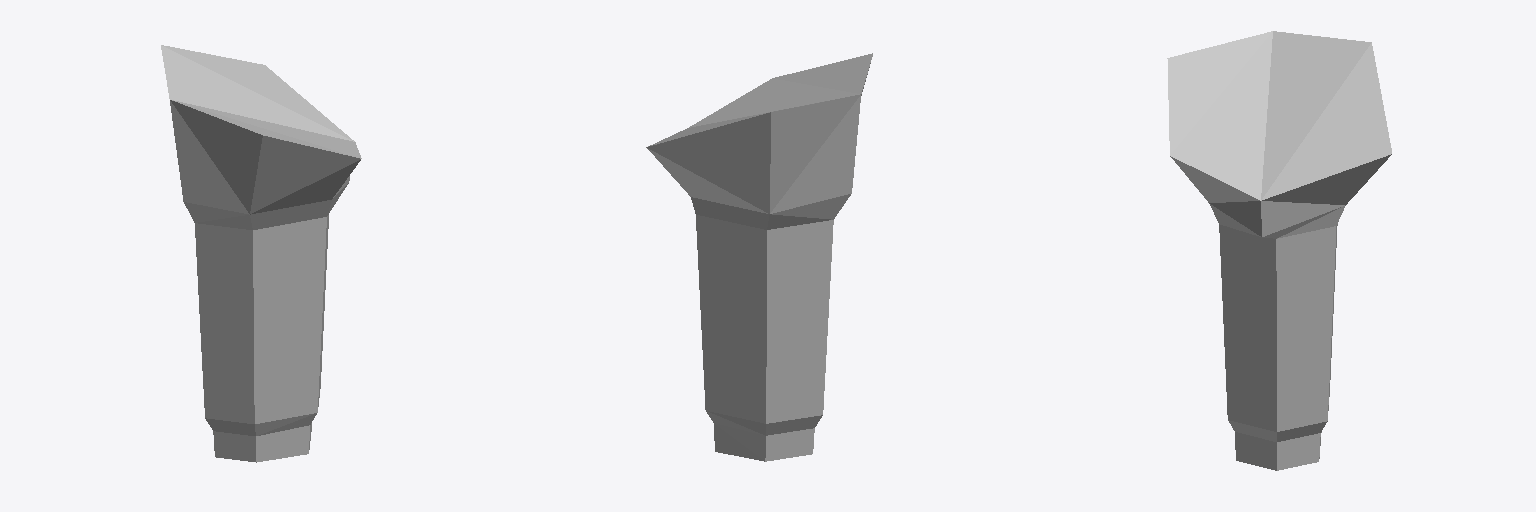
Rendered from astronauta_reloded_rightarmtop.obj.
3 views of the same model, side by side, from view 1: azimuth 30°, elevation 25°; view 2: azimuth 150°, elevation 25°; view 3: azimuth 270°, elevation 25° (orthographic).
Parts seen in each view (by area): view 1: Astronauta_Cubo; view 2: Astronauta_Cubo; view 3: Astronauta_Cubo.
Part boxes in pixels (left/top/right/bottom): Astronauta_Cubo: left=161, top=45, right=361, bottom=462; Astronauta_Cubo: left=646, top=53, right=872, bottom=461; Astronauta_Cubo: left=1167, top=31, right=1391, bottom=470.
Bounding box in the file's own units: 0.1537 × 0.3098 × 0.1666.